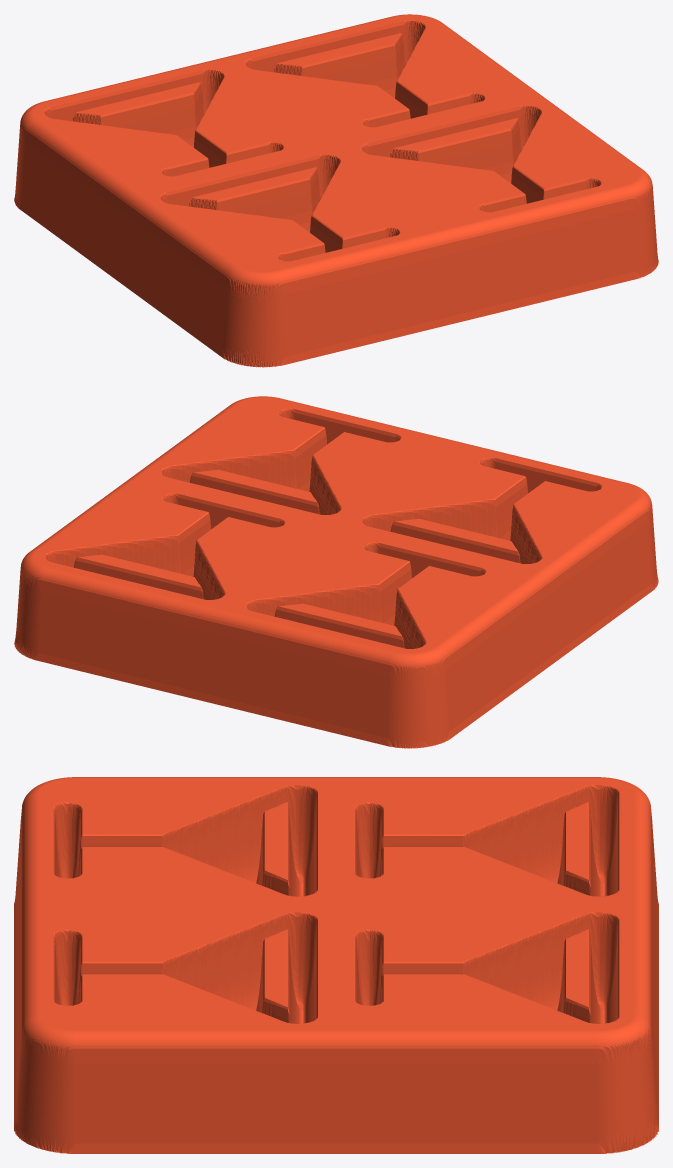
File: mold.glb
3 renders of one model, top to bottom at view 1: azimuth 30°, elevation 25°; view 2: azimuth 150°, elevation 25°; view 3: azimuth 270°, elevation 25°, orthographic. The views are drawn at different scales.
Parts seen in each view (by area): view 1: geometry_0; view 2: geometry_0; view 3: geometry_0.
Boxes of the visible parts, bbox=[...] form: geometry_0: bbox=[14, 14, 658, 367]; geometry_0: bbox=[14, 396, 658, 748]; geometry_0: bbox=[14, 777, 658, 1153].
Size of the model in its own units: 0.0942 by 0.0182 by 0.0942.
